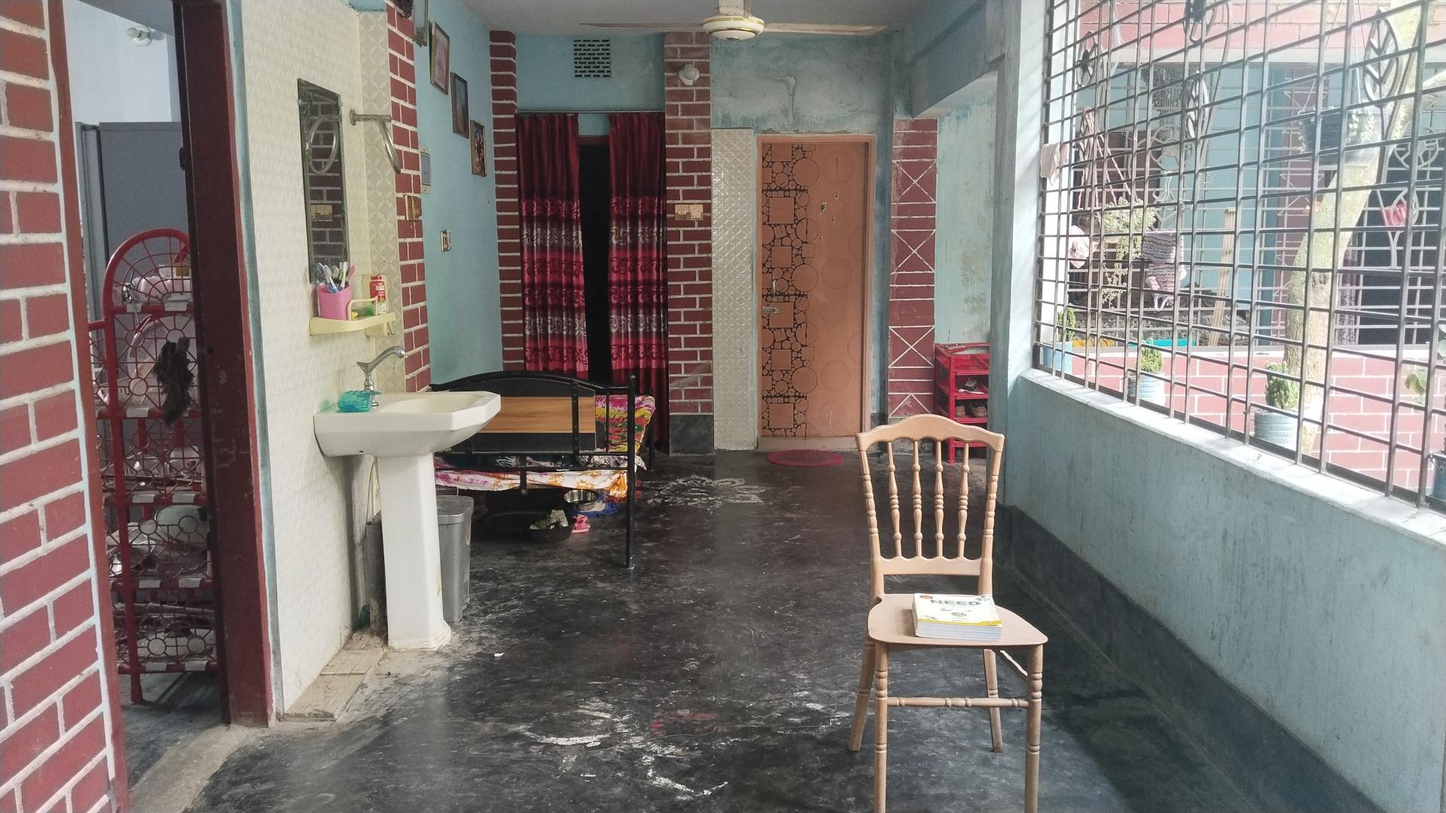Book: (908, 593, 1000, 646)
Chair: (853, 415, 1051, 813)
Door: (745, 138, 869, 439)
